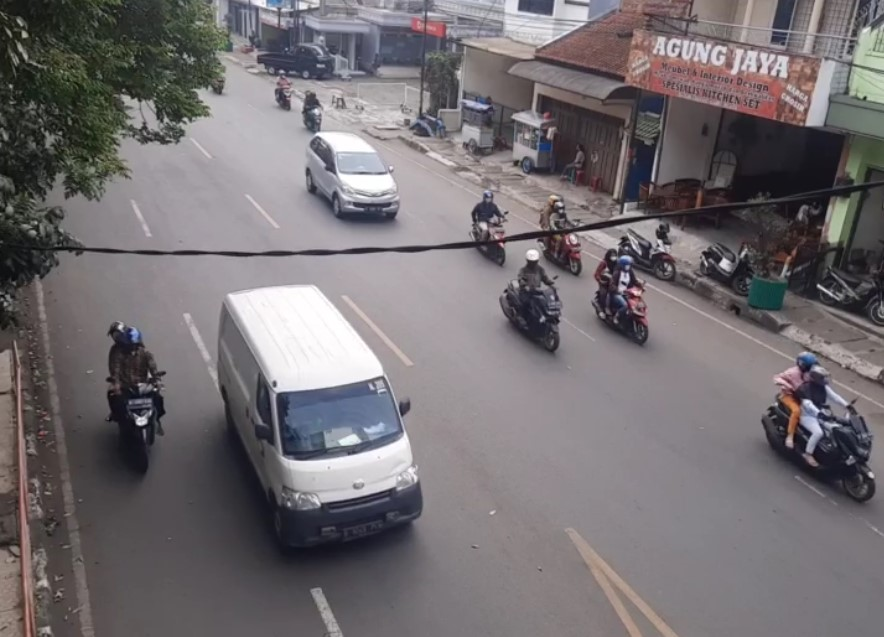mobil: (200, 280, 441, 547), (298, 130, 398, 223)
motor: (766, 349, 880, 509), (98, 321, 172, 474), (502, 249, 562, 356), (590, 252, 654, 344), (536, 191, 583, 274), (463, 191, 508, 260), (295, 85, 326, 128)
